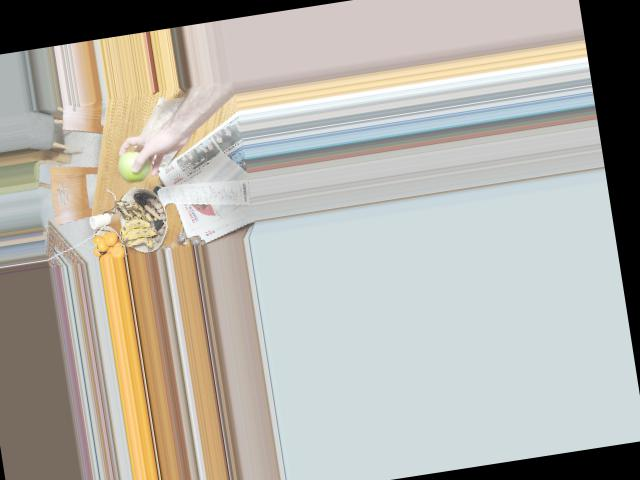apple: (117, 148, 154, 184)
